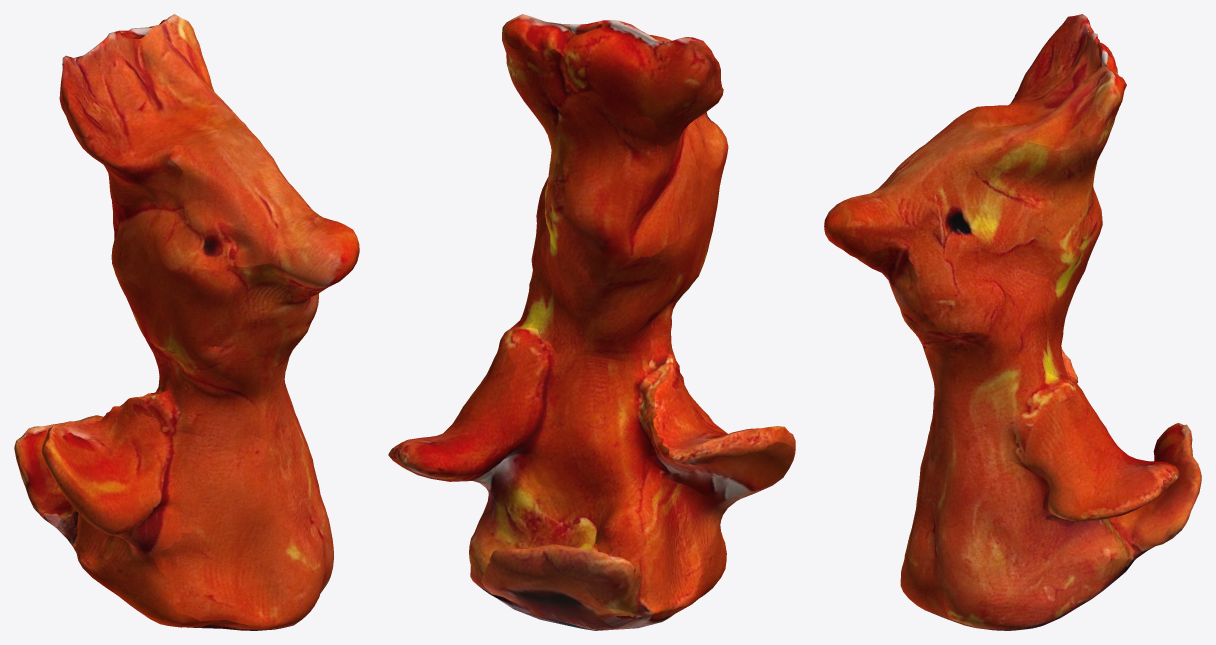
The model's file is jumping bird.fbx.
3 views of the same model, side by side, from view 1: azimuth 30°, elevation 25°; view 2: azimuth 150°, elevation 25°; view 3: azimuth 270°, elevation 25° (orthographic). The views are drawn at different scales.
Visible parts, largest first — view 1: bird; view 2: bird; view 3: bird.
Part boxes in pixels (x1,y1,x2,y2): bird: (14,14,359,630); bird: (388,14,795,630); bird: (824,14,1201,630).
Size of the model in its own units: 33.32 by 62.31 by 39.57.
Materials: 1 (1 with a texture image).
